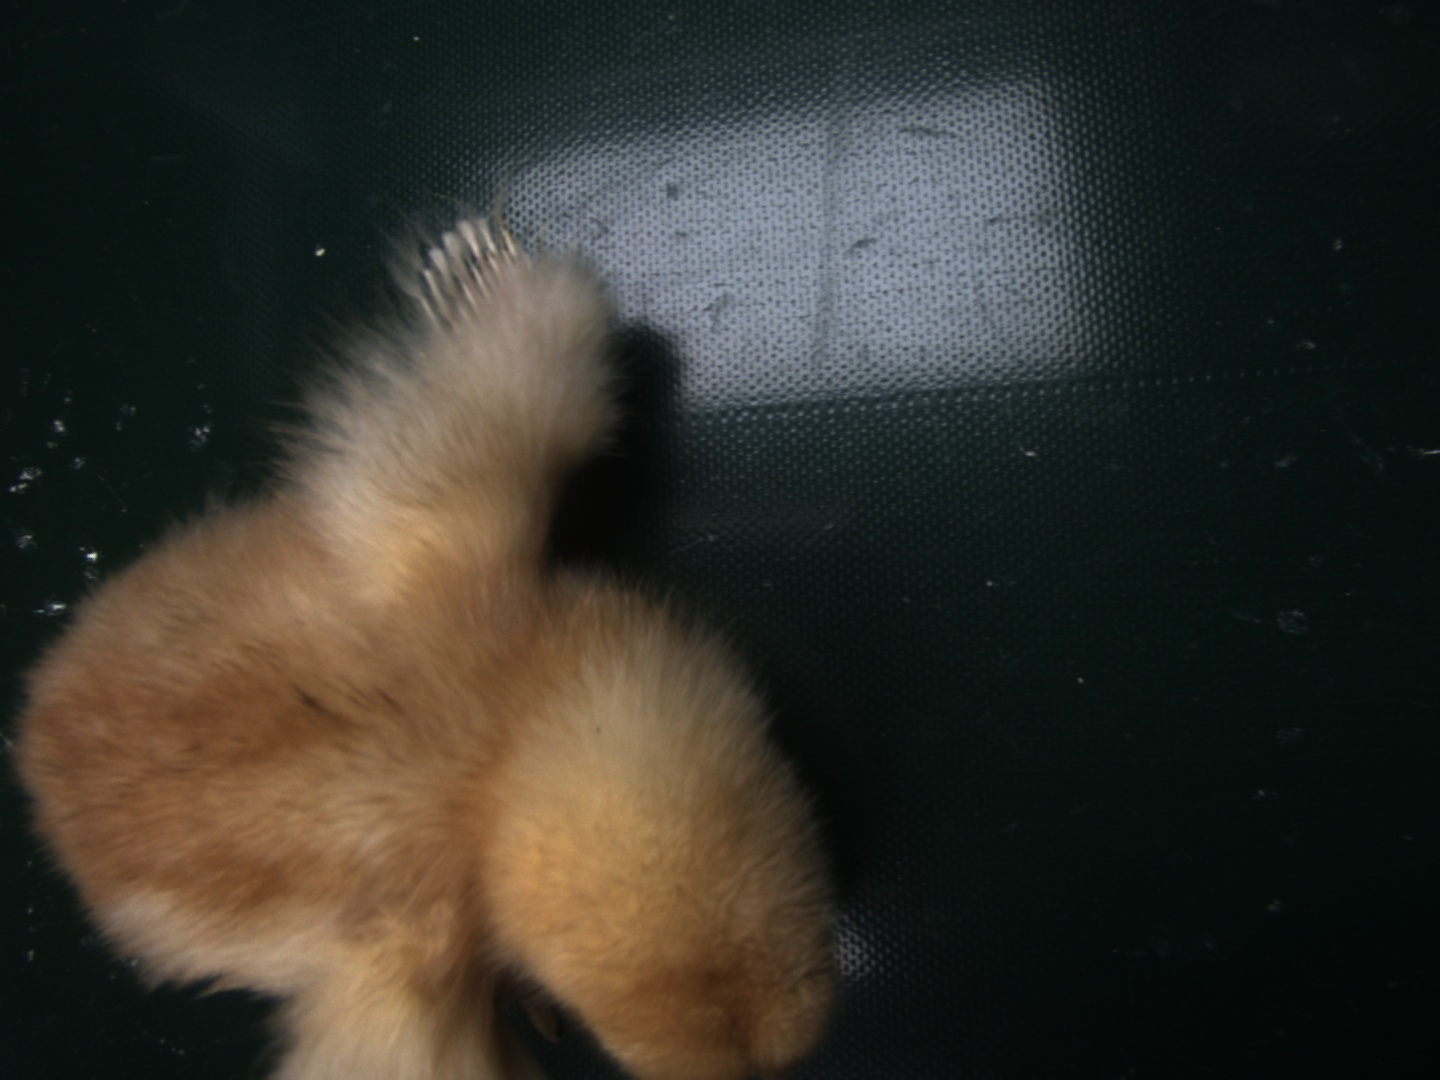female: (404, 216, 535, 324)
